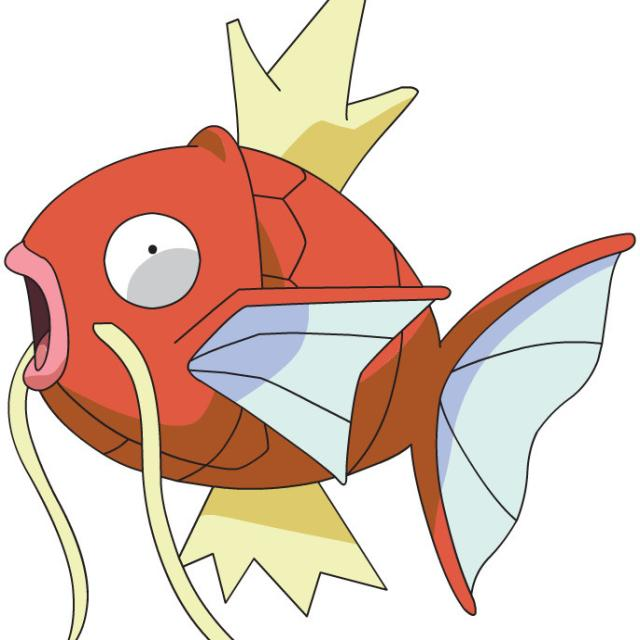Magikarp: (0, 48, 629, 506)
